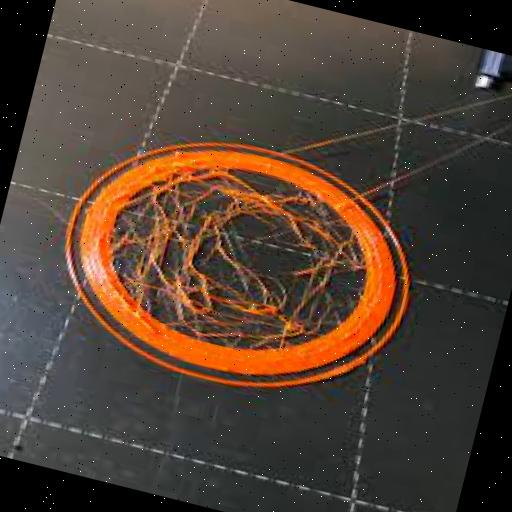spaghetti: (102, 154, 354, 364)
